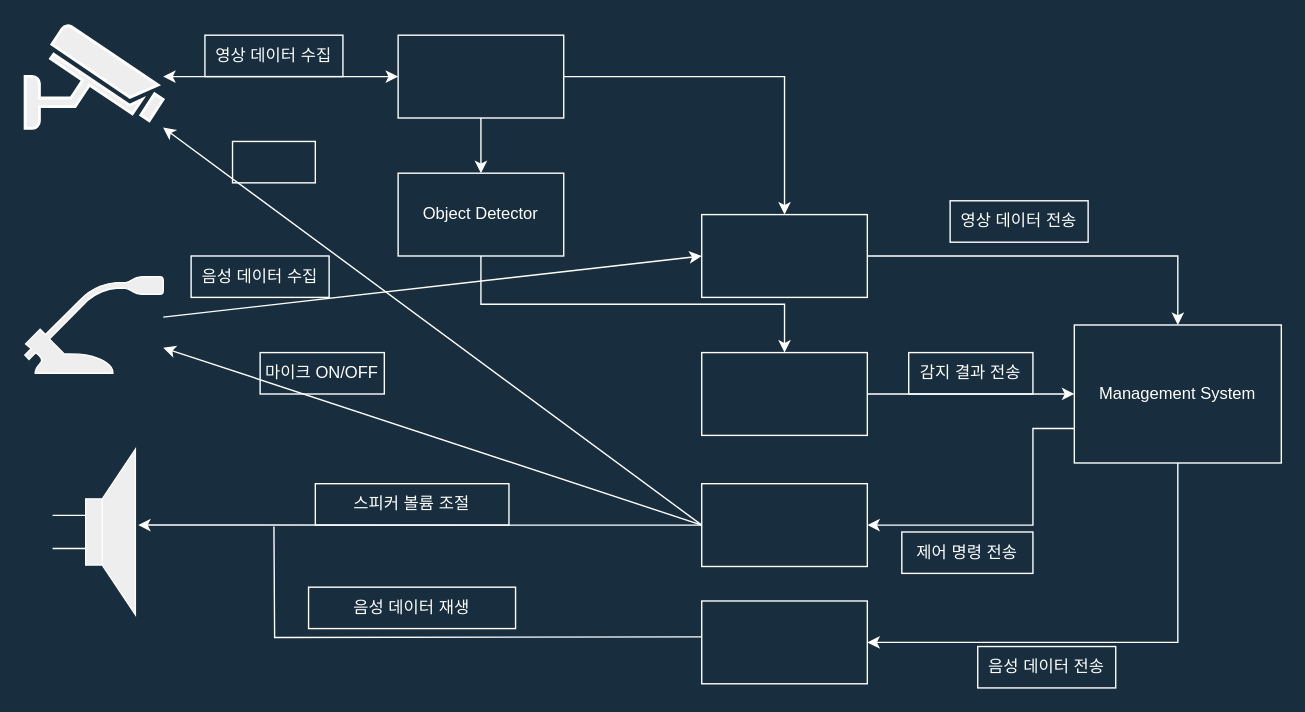
The diagram is 1305 pixels wide and 712 high, and some of its shapes have lost their labels. The centre of each missing label's shape, as x and y in pixels:
Audio Player: [783,642]
Detection Sender: [783,393]
Device Controller: [783,524]
PTZ 제어: [273,161]
Video Capture: [480,76]
Video Streamer: [783,255]
